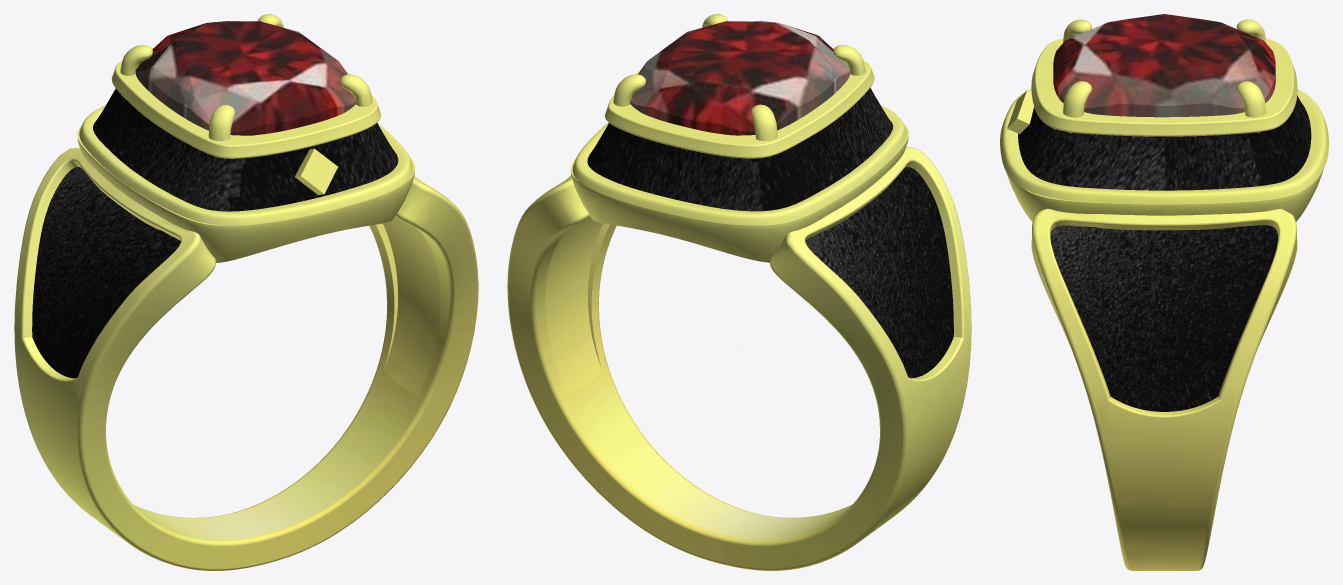
Rendered from ring60.glb.
3 views of the same model, side by side, from view 1: azimuth 30°, elevation 25°; view 2: azimuth 150°, elevation 25°; view 3: azimuth 270°, elevation 25° (orthographic).
Visible parts, largest first — view 1: body, black, core; view 2: body, black, core; view 3: body, black, core.
Boxes of the visible parts, left/top/right/bottom form: body: left=14, top=14, right=478, bottom=570; black: left=32, top=88, right=398, bottom=378; core: left=135, top=21, right=355, bottom=135; body: left=507, top=14, right=971, bottom=570; black: left=587, top=87, right=953, bottom=378; core: left=630, top=21, right=850, bottom=135; body: left=1000, top=19, right=1328, bottom=570; black: left=1018, top=95, right=1311, bottom=411; core: left=1053, top=14, right=1275, bottom=117.
Size of the model in its own units: 22.61 by 27.11 by 15.96.
4 materials, 4 textured.
